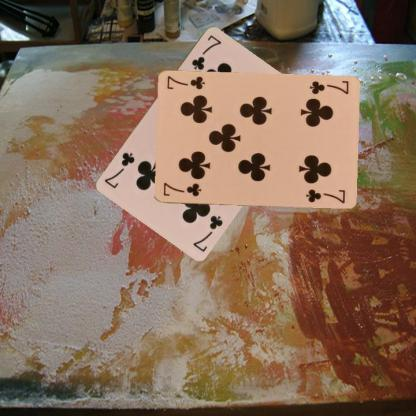7c: (190, 212, 224, 253), (188, 32, 223, 71), (306, 78, 350, 96), (161, 180, 202, 198)
